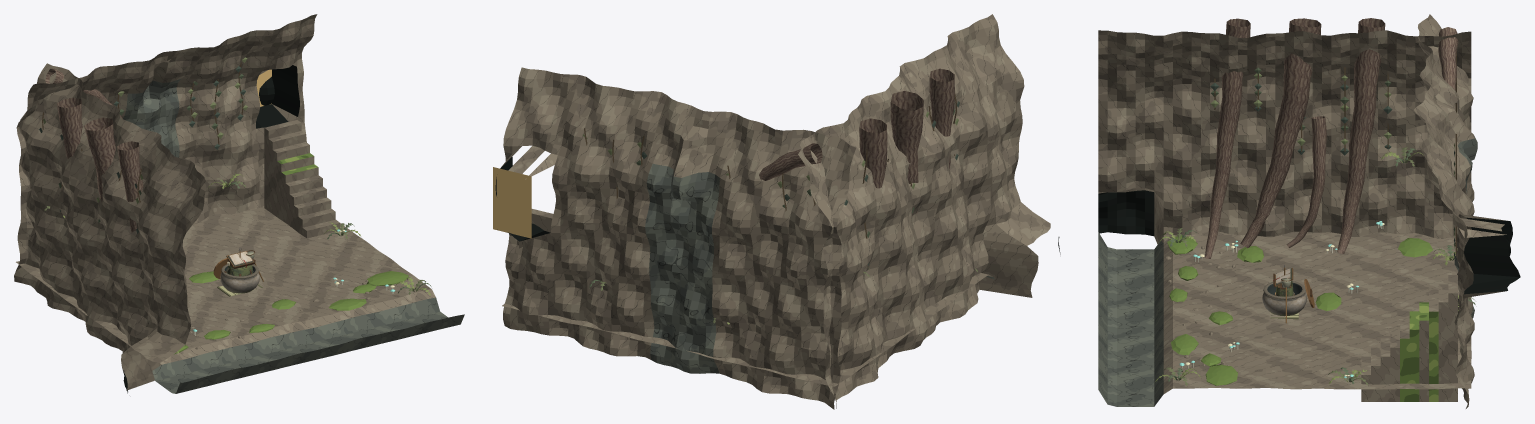
File: pools-room.glb
3 renders of one model, left to right at view 1: azimuth 30°, elevation 25°; view 2: azimuth 150°, elevation 25°; view 3: azimuth 270°, elevation 25°, orthographic. The views are drawn at different scales.
Visible parts, largest first — view 1: shell, decor, crock, ferns; view 2: shell, decor; view 3: shell, decor, crock, ferns.
Part boxes in pixels (box(x1,y1,x2,y2)): shell: box(14, 14, 464, 393); decor: box(39, 57, 408, 354); crock: box(213, 250, 263, 293); ferns: box(44, 173, 431, 353); shell: box(493, 14, 1060, 409); decor: box(583, 93, 959, 265); shell: box(1098, 14, 1520, 408); decor: box(1165, 50, 1456, 385); crock: box(1262, 278, 1314, 323); ferns: box(1155, 147, 1475, 385).
Bounding box in the file's own units: 12.92 × 8 × 12.69.
Materials: 44 (12 with a texture image).
